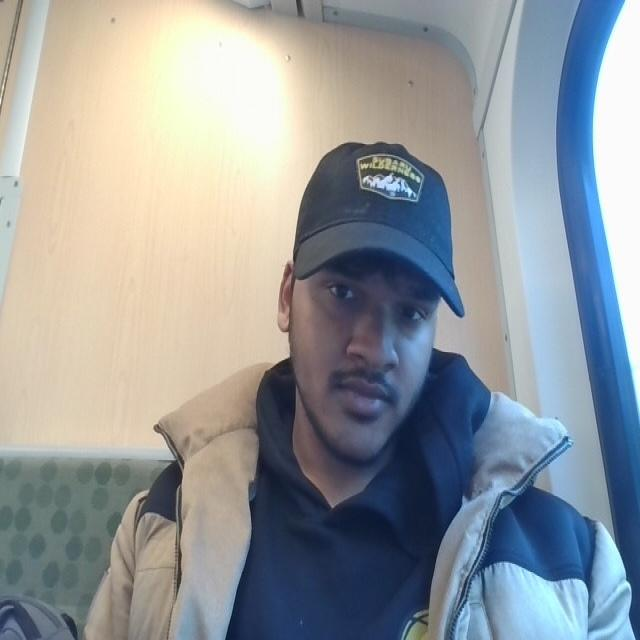hat: (284, 125, 473, 316)
